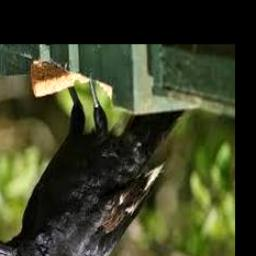Crow: (0, 75, 189, 256)
